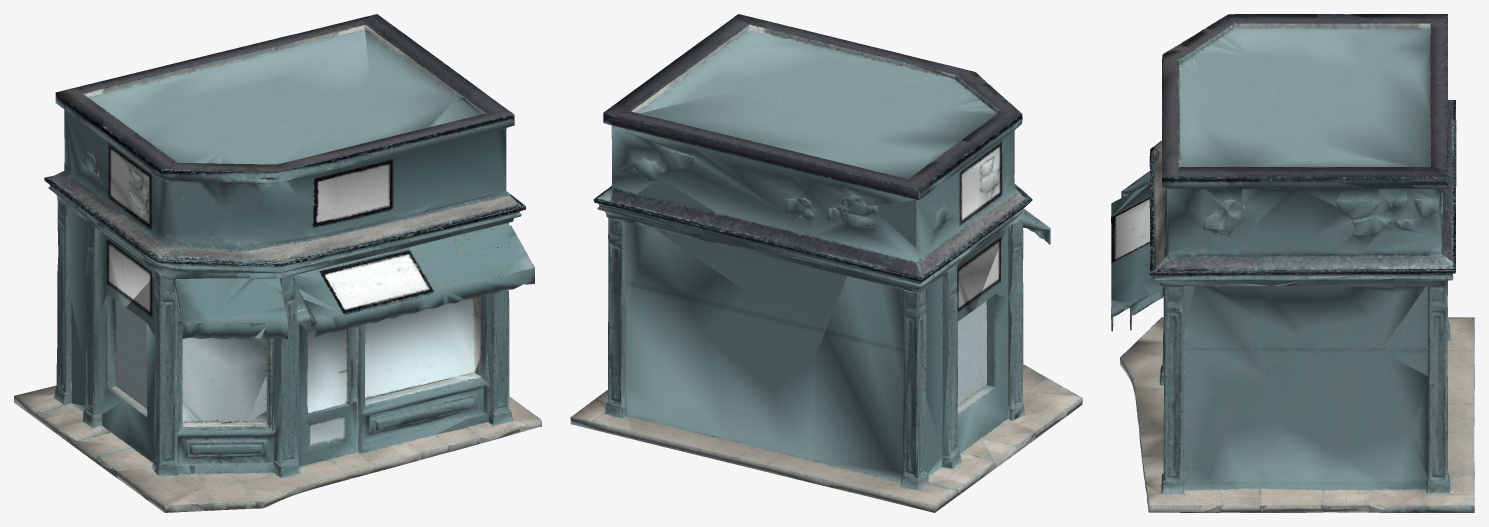
Rendered from arch_shop_01.glb.
3 views of the same model, side by side, from view 1: azimuth 30°, elevation 25°; view 2: azimuth 150°, elevation 25°; view 3: azimuth 270°, elevation 25° (orthographic). The views are drawn at different scales.
Parts seen in each view (by area): view 1: output_unwrapped; view 2: output_unwrapped; view 3: output_unwrapped.
Boxes of the visible parts, left/top/right/bottom form: output_unwrapped: left=14, top=14, right=541, bottom=512; output_unwrapped: left=570, top=14, right=1082, bottom=512; output_unwrapped: left=1111, top=14, right=1474, bottom=512.
Size of the model in its own units: 4.97 by 4 by 4.05.
Materials: 1 (1 with a texture image).
